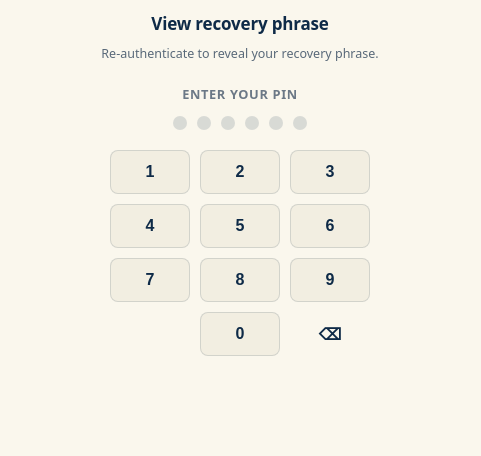
Test: Backup › reveals the recovery phrase after a correct PIN
What coordinates should you click on to do the following:
click the button "1"
I would click on:
 (150, 172)
Its box is [110,150,190,194].
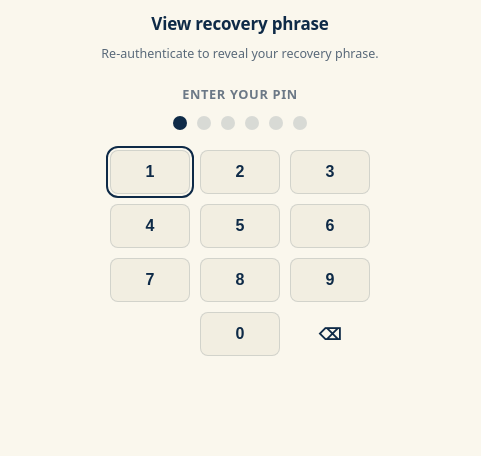
What coordinates should you click on to do the following:
click the button "2"
I would click on:
 (240, 172)
Its box is [200,150,280,194].
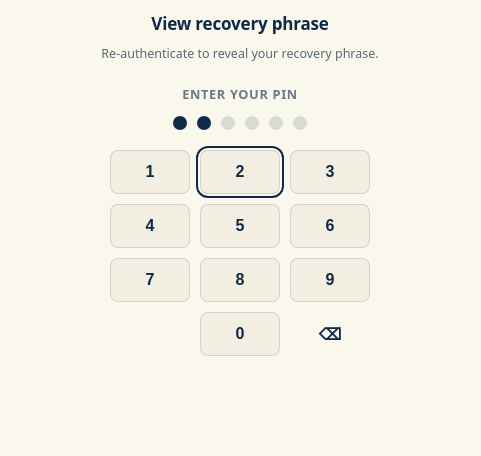
What coordinates should you click on to do the following:
click the button "3"
I would click on:
 (330, 172)
Its box is [290,150,370,194].
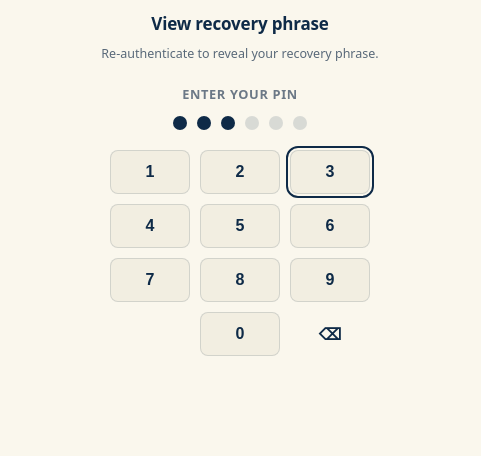
What coordinates should you click on to do the following:
click the button "4"
I would click on:
 (150, 226)
Its box is [110,204,190,248].
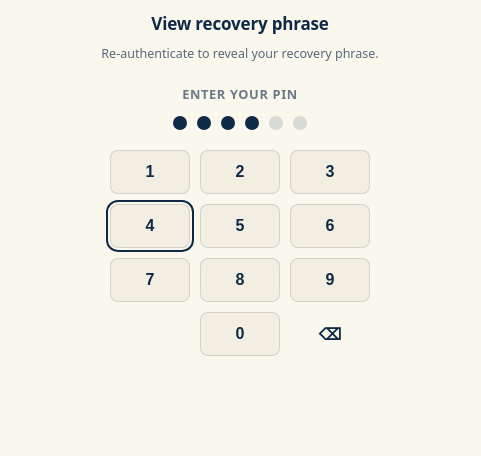
What coordinates should you click on to do the following:
click the button "5"
I would click on:
 (240, 226)
Its box is [200,204,280,248].
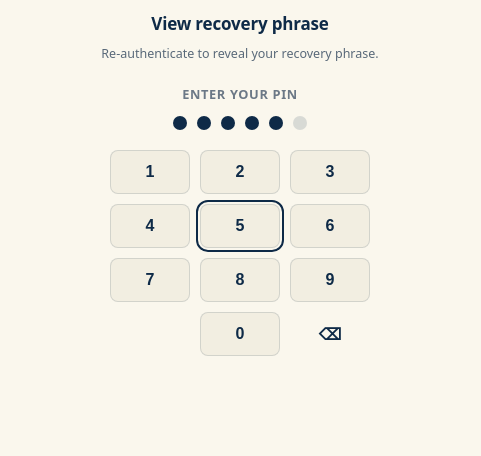
What coordinates should you click on to do the following:
click the button "6"
I would click on:
 (330, 226)
Its box is [290,204,370,248].
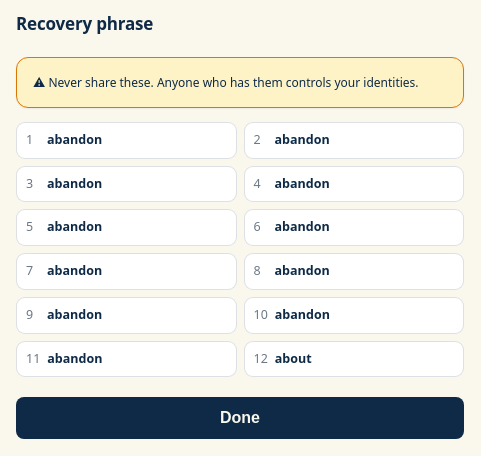
Result: the text "about" is shown at [275,350,312,368]
